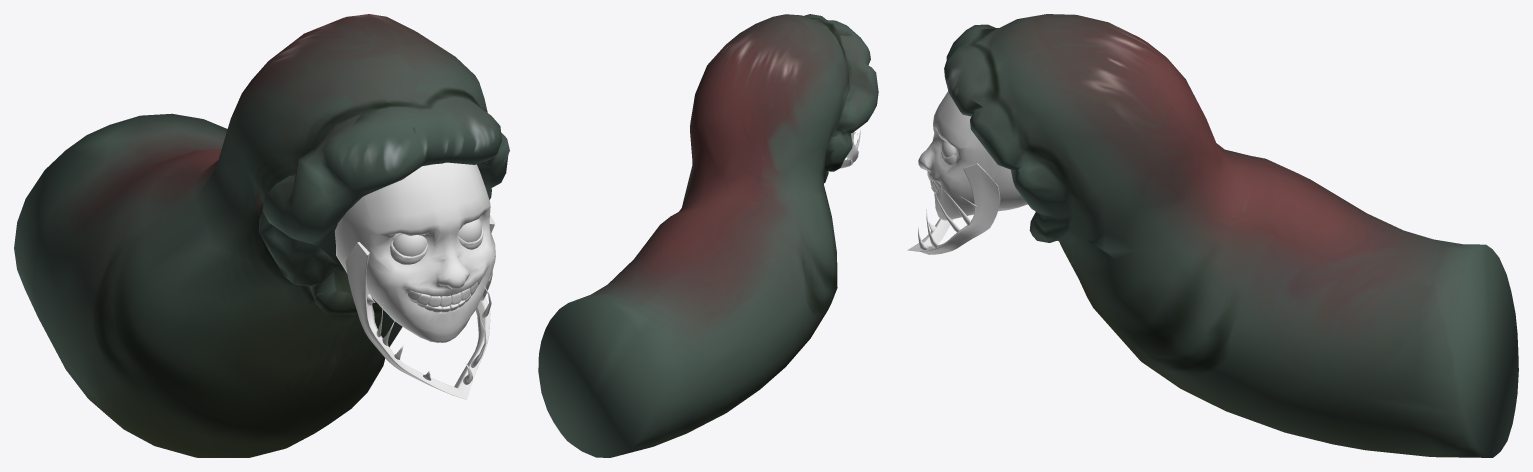
File: Monster_Combined.fbx
The picture shows the model from 3 angles, left to right: view 1: azimuth 30°, elevation 25°; view 2: azimuth 150°, elevation 25°; view 3: azimuth 270°, elevation 25°; orthographic projection. The views are drawn at different scales.
Visible parts, largest first — view 1: Body.002, Monster head coimbined; view 2: Body.002; view 3: Body.002, Monster head coimbined.
Boxes of the visible parts, bbox=[...] form: Body.002: bbox=[14, 14, 509, 457]; Monster head coimbined: bbox=[334, 162, 495, 399]; Body.002: bbox=[538, 14, 878, 457]; Body.002: bbox=[944, 14, 1518, 457]; Monster head coimbined: bbox=[907, 91, 1027, 254].
Bounding box in the file's own units: 436 × 695 × 923.
